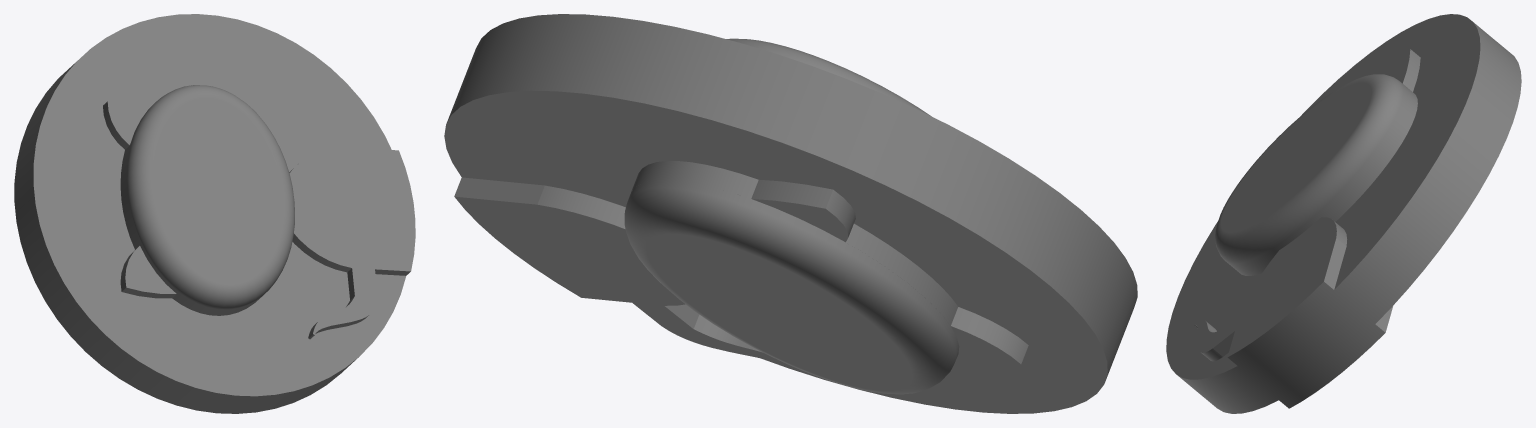
Rendered from github_3d.glb.
The picture shows the model from 3 angles, left to right: view 1: azimuth 30°, elevation 25°; view 2: azimuth 150°, elevation 25°; view 3: azimuth 270°, elevation 25°; orthographic projection. The views are drawn at different scales.
Visible parts, largest first — view 1: node_id3; view 2: node_id3; view 3: node_id3.
Boxes of the visible parts, bbox=[...] form: node_id3: bbox=[14, 14, 415, 413]; node_id3: bbox=[444, 14, 1137, 413]; node_id3: bbox=[1166, 14, 1521, 413].
Bounding box in the file's own units: 0.5139 × 0.4176 × 0.395.
1 material, 1 textured.
